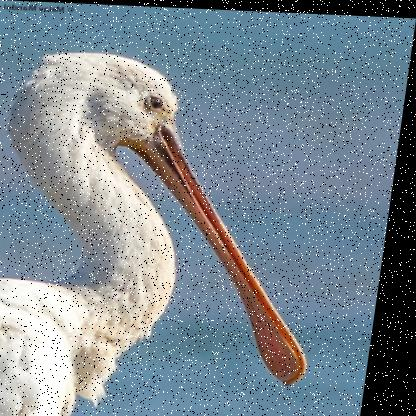Burung: (0, 51, 354, 415)
